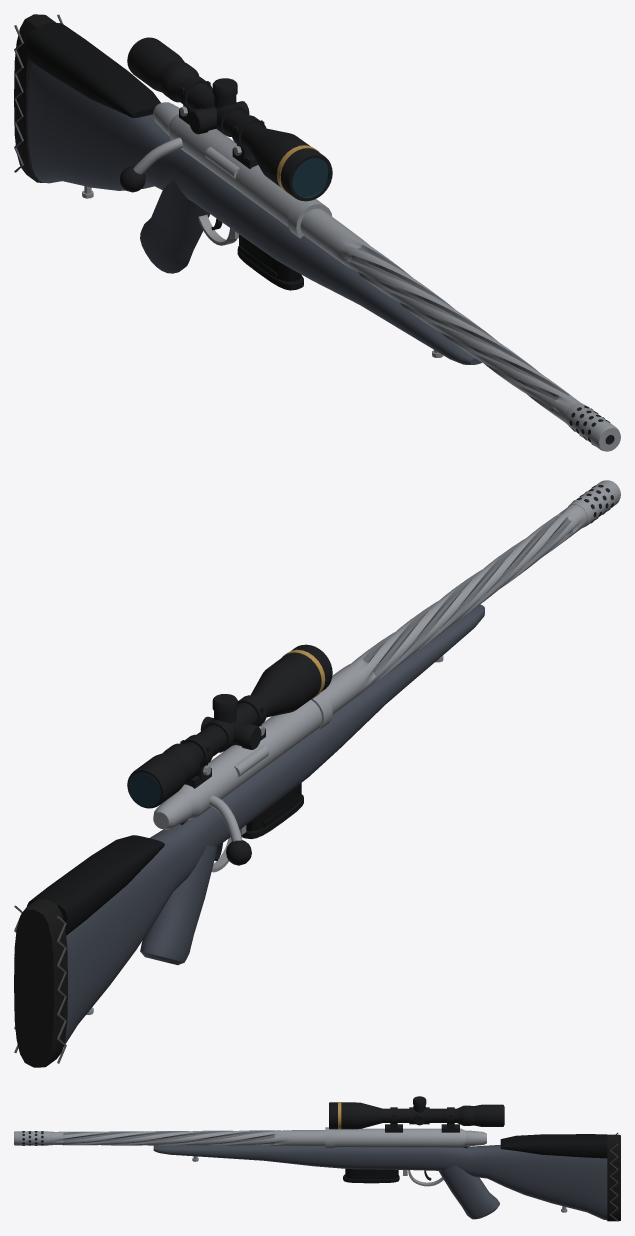
File: marksman.glb
The picture shows the model from 3 angles, top to bottom: view 1: azimuth 30°, elevation 25°; view 2: azimuth 150°, elevation 25°; view 3: azimuth 270°, elevation 25°; orthographic projection. The views are drawn at different scales.
Visible parts, largest first — view 1: body, bolt, mag; view 2: body, bolt, mag; view 3: body, mag, bolt.
Boxes of the visible parts, x1,y1,x2,y2 form: body: [14, 14, 620, 451]; bolt: [119, 102, 239, 192]; mag: [237, 234, 303, 290]; body: [14, 480, 620, 1067]; bolt: [153, 745, 268, 865]; mag: [241, 783, 303, 839]; body: [14, 1096, 620, 1221]; mag: [343, 1169, 399, 1183]; bolt: [465, 1130, 486, 1146].
Size of the model in its own units: 0.0935 by 0.2362 by 1.07.
